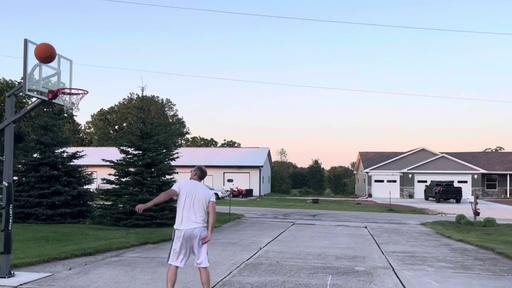ball: (34, 42, 56, 64)
human: (135, 165, 217, 288)
rim: (56, 87, 88, 113)
